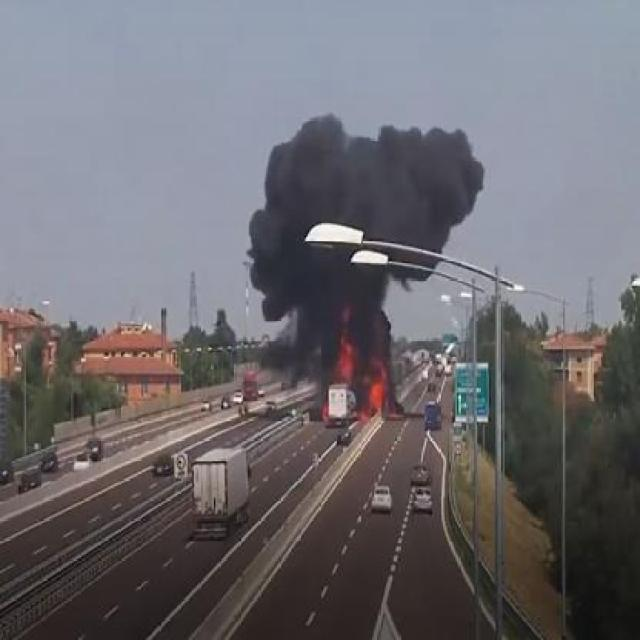Fire: (362, 343, 390, 428), (332, 330, 357, 388), (322, 404, 333, 430)
Smoke: (299, 113, 477, 270), (260, 142, 304, 322), (304, 269, 389, 343), (250, 209, 264, 291)
